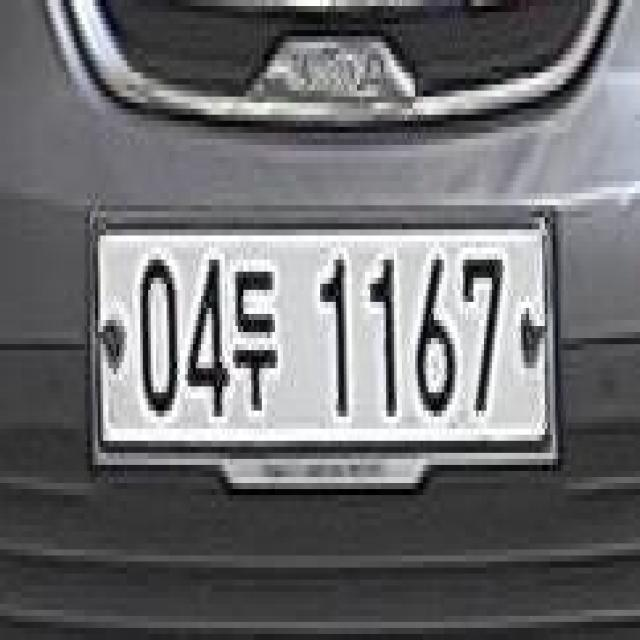illegal_plate: (89, 198, 558, 492)
